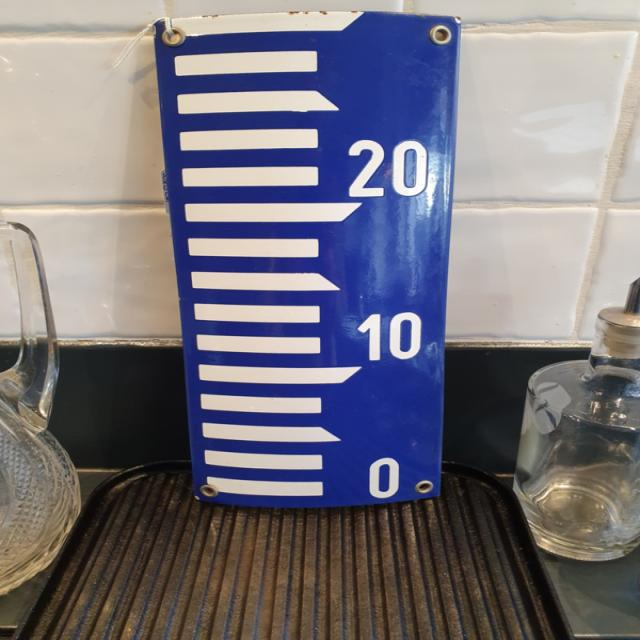water-meter: (154, 8, 492, 520)
